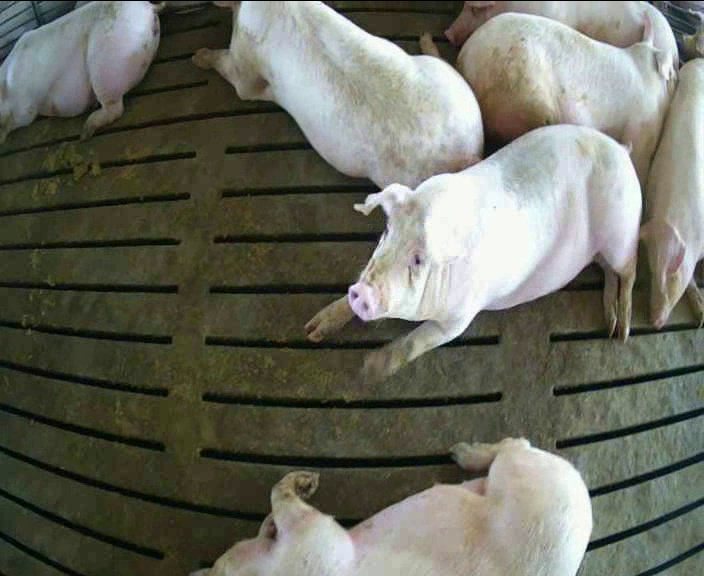pig: (305, 126, 641, 380), (193, 1, 482, 187), (196, 438, 591, 574), (457, 13, 678, 182), (0, 2, 159, 142), (641, 58, 703, 327), (445, 0, 678, 70)
